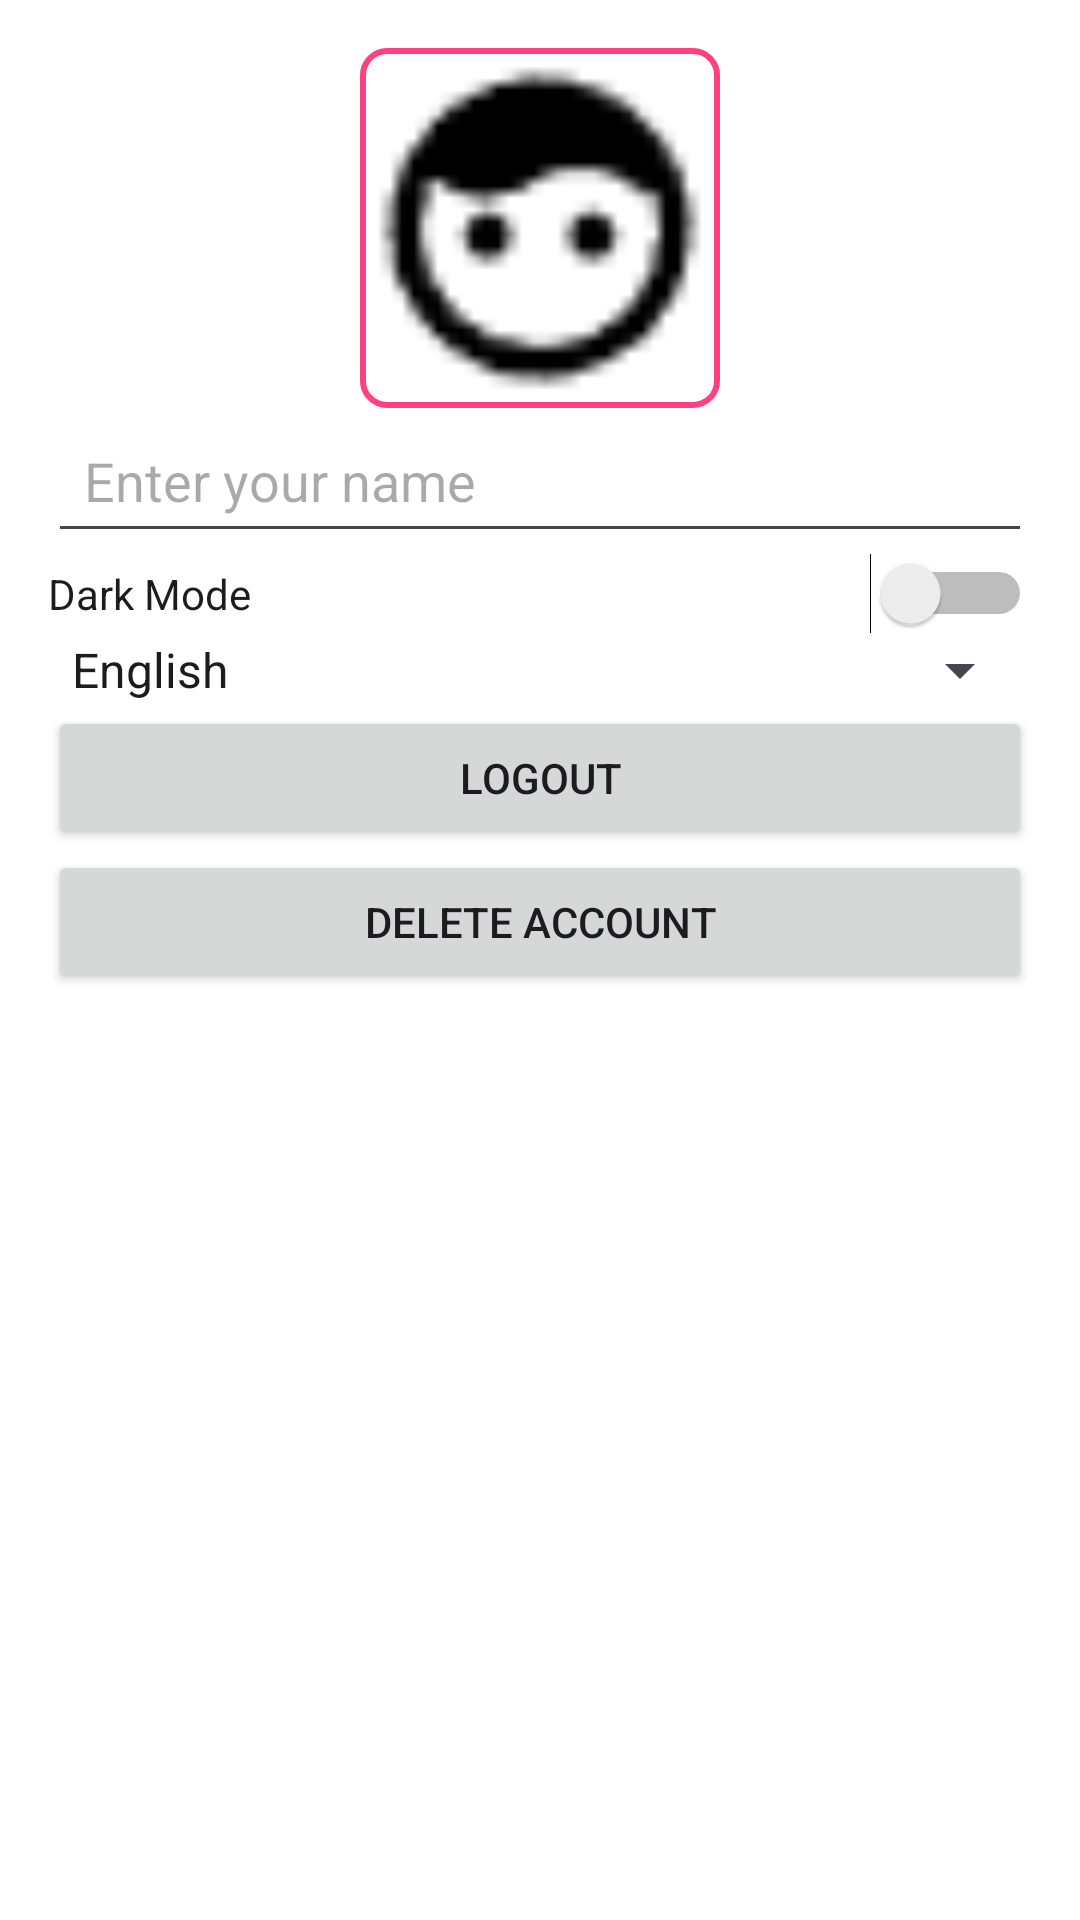

Screen size 1080 × 1920. Icon name, then its center in pixels as (x,y):
profile: (540,228)
